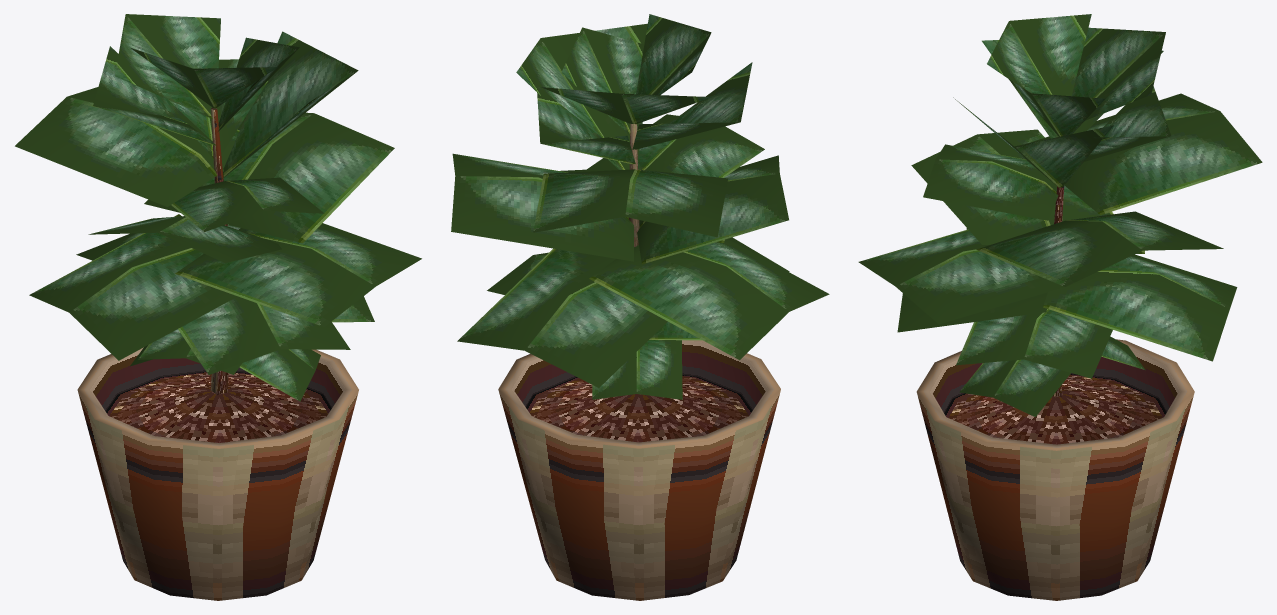
Rendered from int_plt_rubber.dae.
3 renders of one model, left to right at view 1: azimuth 30°, elevation 25°; view 2: azimuth 150°, elevation 25°; view 3: azimuth 270°, elevation 25°, orthographic.
Visible parts, largest first — view 1: int_plt_rubber; view 2: int_plt_rubber; view 3: int_plt_rubber.
Part boxes in pixels (left/top/right/bottom): int_plt_rubber: left=15, top=14, right=421, bottom=600; int_plt_rubber: left=451, top=14, right=829, bottom=600; int_plt_rubber: left=858, top=14, right=1262, bottom=600.
Size of the model in its own units: 35.7 by 53.7 by 38.1.
2 materials, 2 textured.
